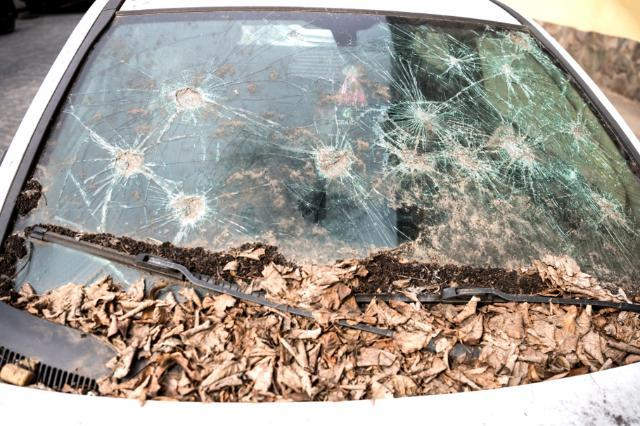Windshield: (6, 14, 640, 362)
